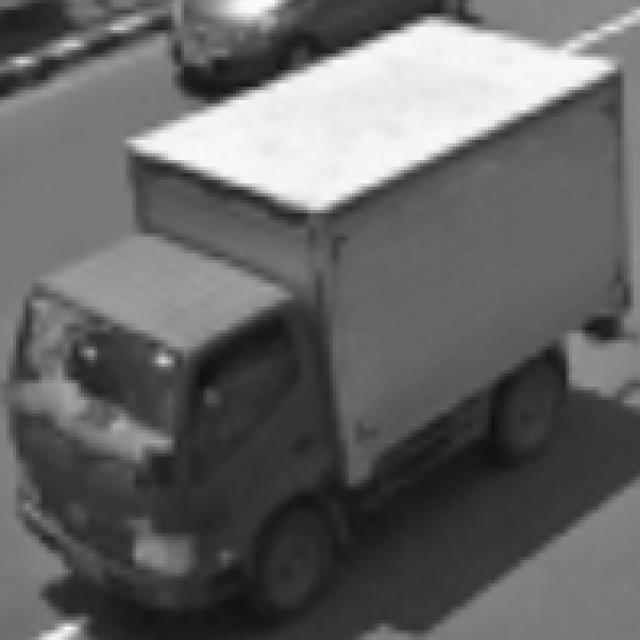truck: (1, 227, 370, 629)
